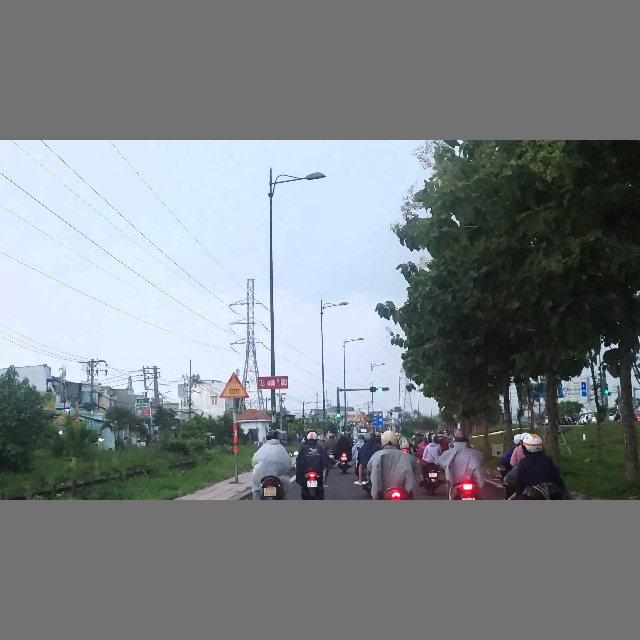W.210: (219, 372, 249, 398)
